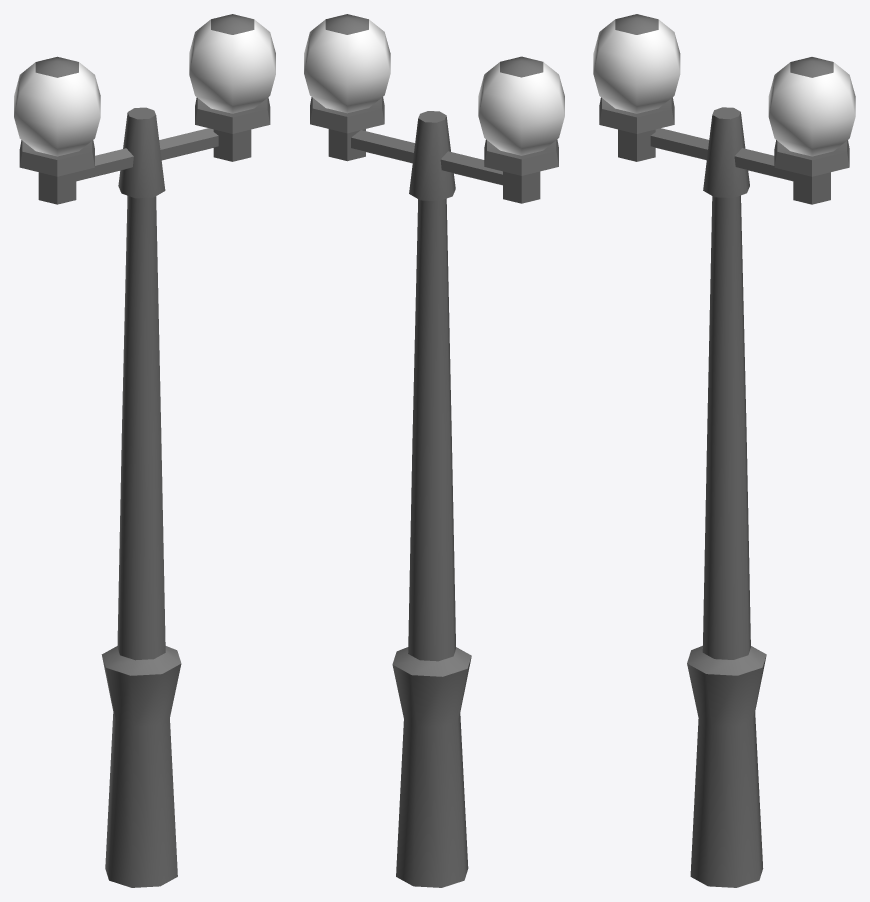
Rendered from street_props_outside_column_2.fbx.
3 views of the same model, side by side, from view 1: azimuth 30°, elevation 25°; view 2: azimuth 150°, elevation 25°; view 3: azimuth 330°, elevation 25° (orthographic).
Visible parts, largest first — view 1: column_2; view 2: column_2; view 3: column_2.
Part boxes in pixels (x1=…): column_2: x1=14, y1=14, x2=275, y2=887; column_2: x1=304, y1=14, x2=564, y2=887; column_2: x1=593, y1=14, x2=855, y2=887.
Size of the model in its own units: 117 by 356 by 34.98.
